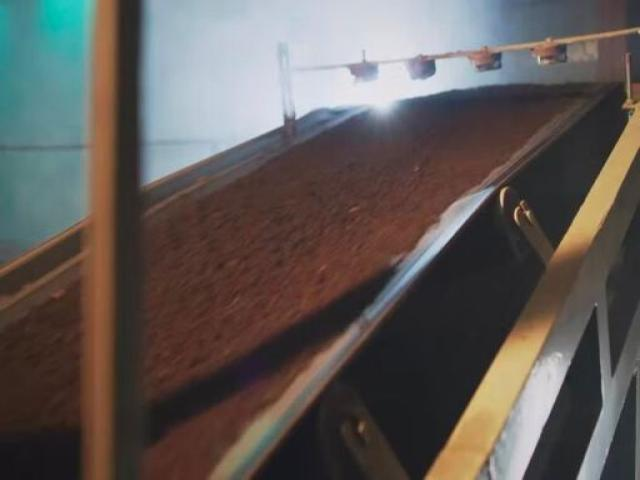conveyor: (0, 92, 611, 480)
